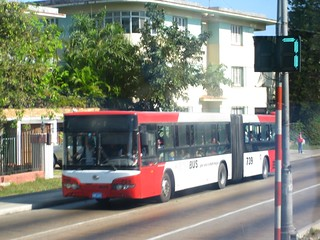bus: (62, 111, 278, 203)
